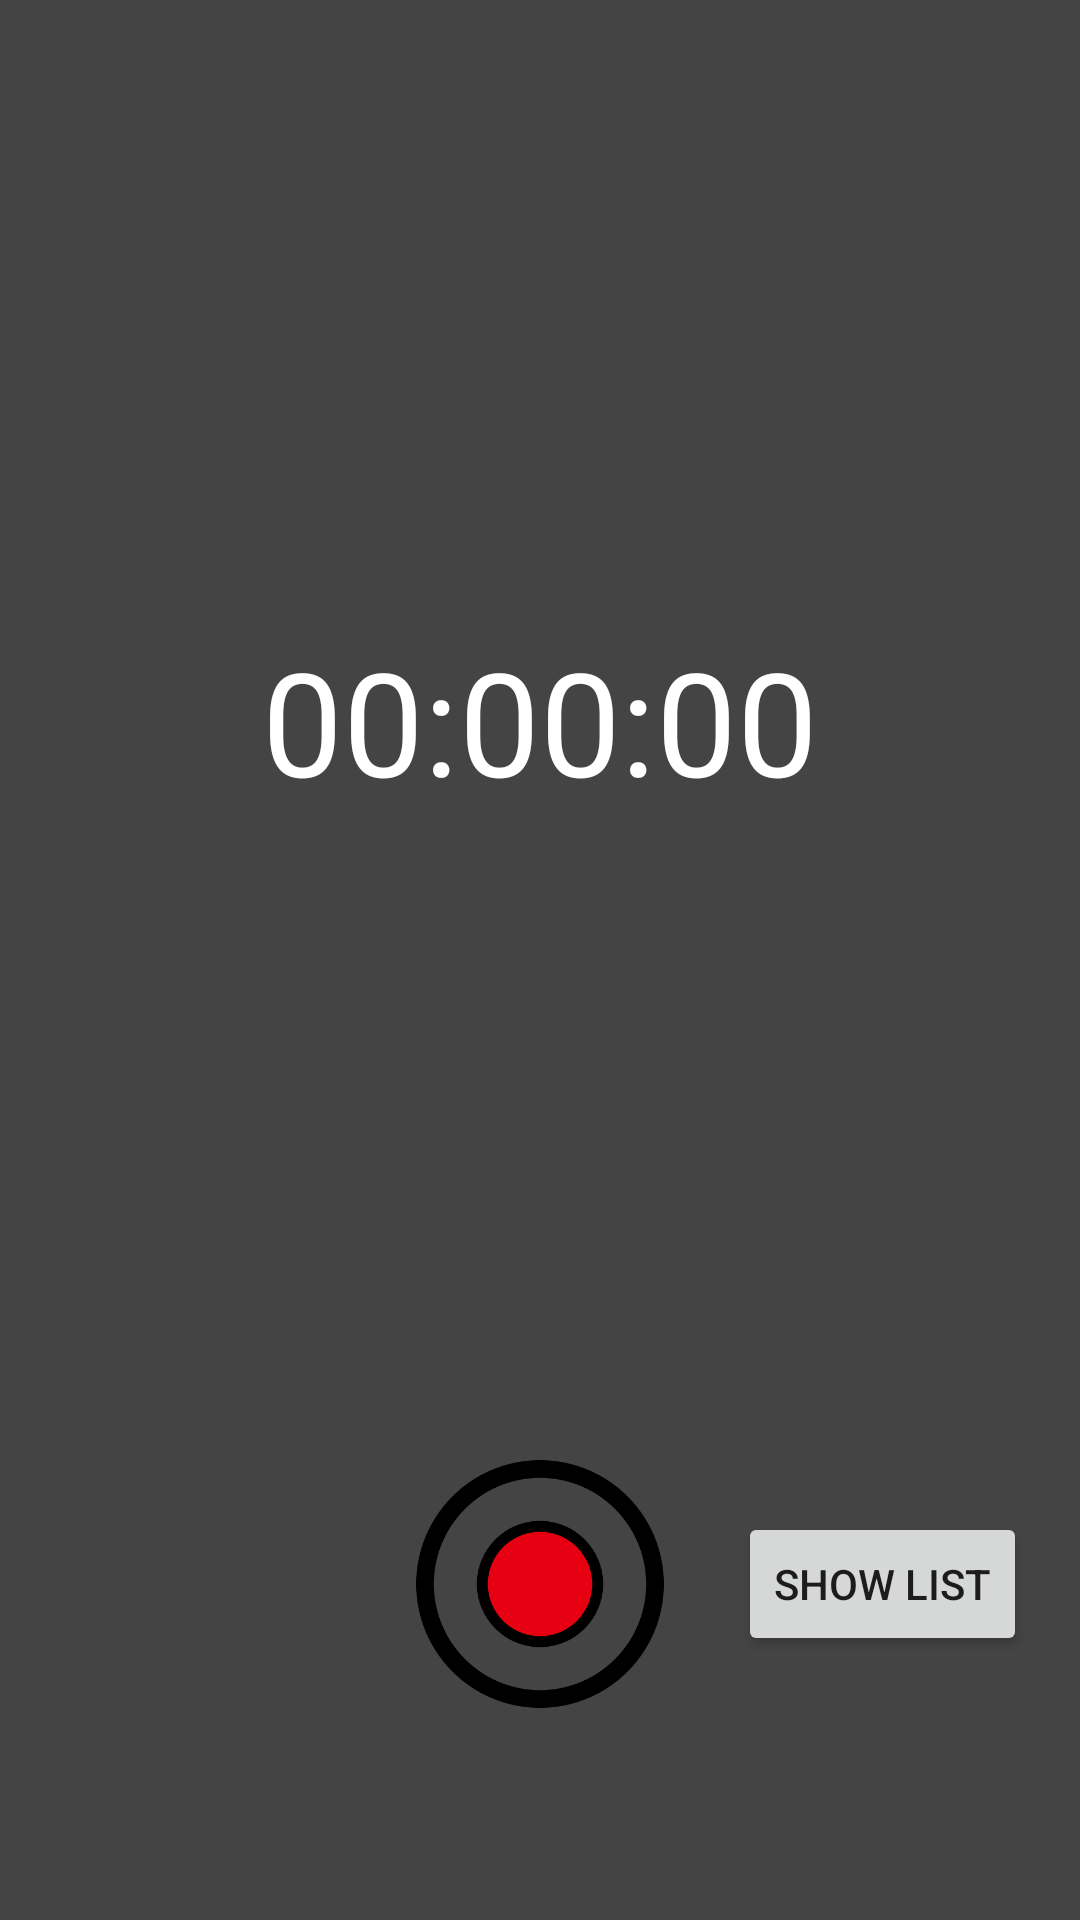

Icons on this 1080x1920 Android screen, each with the point to tap as [x,y]:
record: [540,1584]
